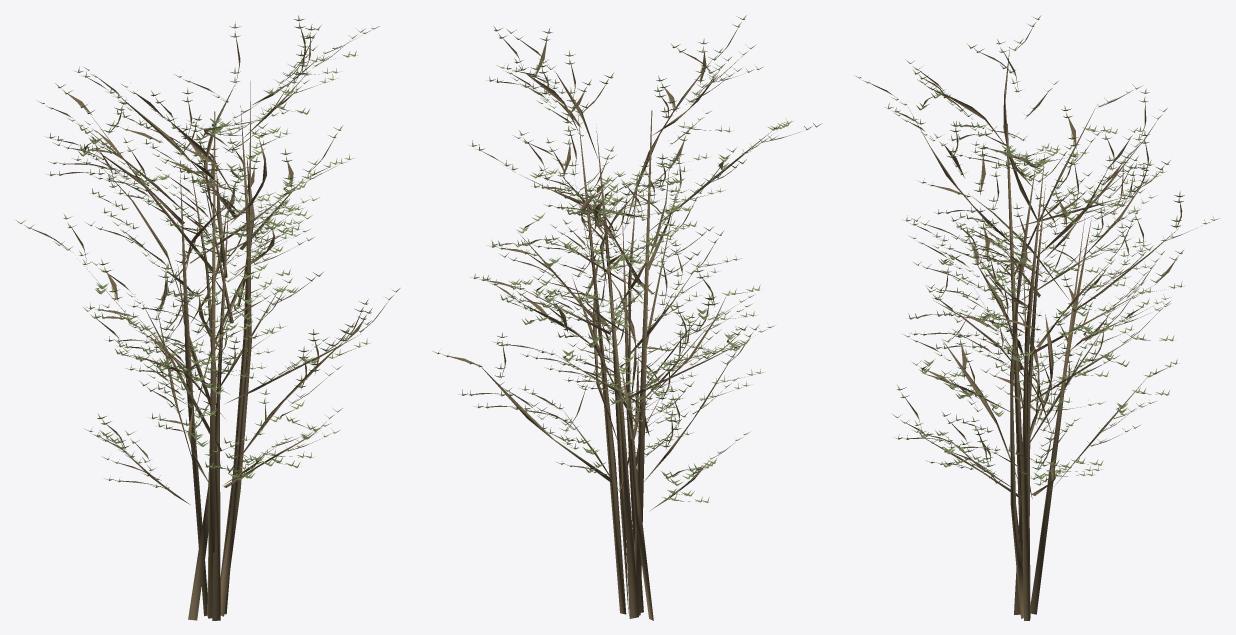
The model's file is Bruyere_1_LOD2.fbx.
3 views of the same model, side by side, from view 1: azimuth 30°, elevation 25°; view 2: azimuth 150°, elevation 25°; view 3: azimuth 270°, elevation 25° (orthographic). The views are drawn at different scales.
Parts seen in each view (by area): view 1: Bruyere_1_LOD2; view 2: Bruyere_1_LOD2; view 3: Bruyere_1_LOD2.
Boxes of the visible parts, box(x1,y1,x2,y2) form: Bruyere_1_LOD2: box(16, 15, 400, 620); Bruyere_1_LOD2: box(432, 15, 822, 620); Bruyere_1_LOD2: box(855, 15, 1219, 620).
Bounding box in the file's own units: 221 × 335 × 211.
